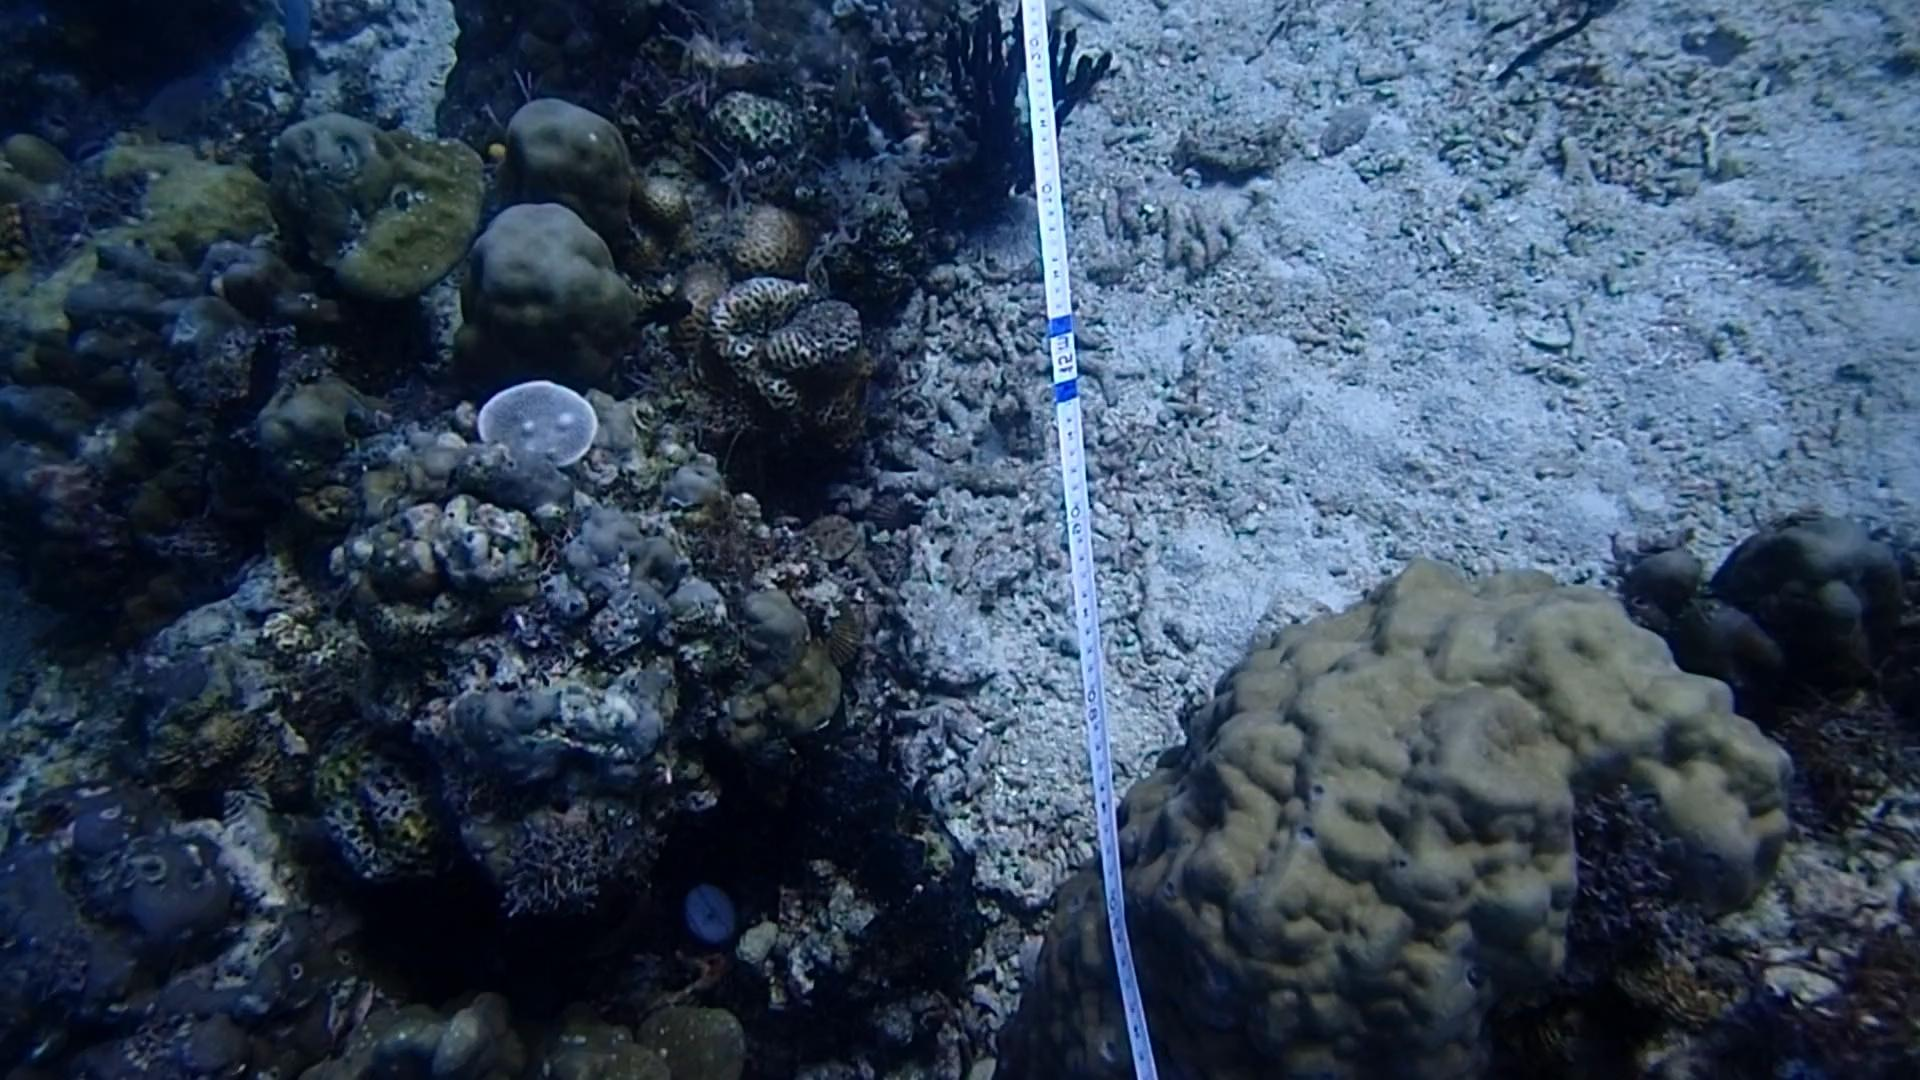Dark Fish: (630, 285, 708, 345), (243, 336, 289, 411)
